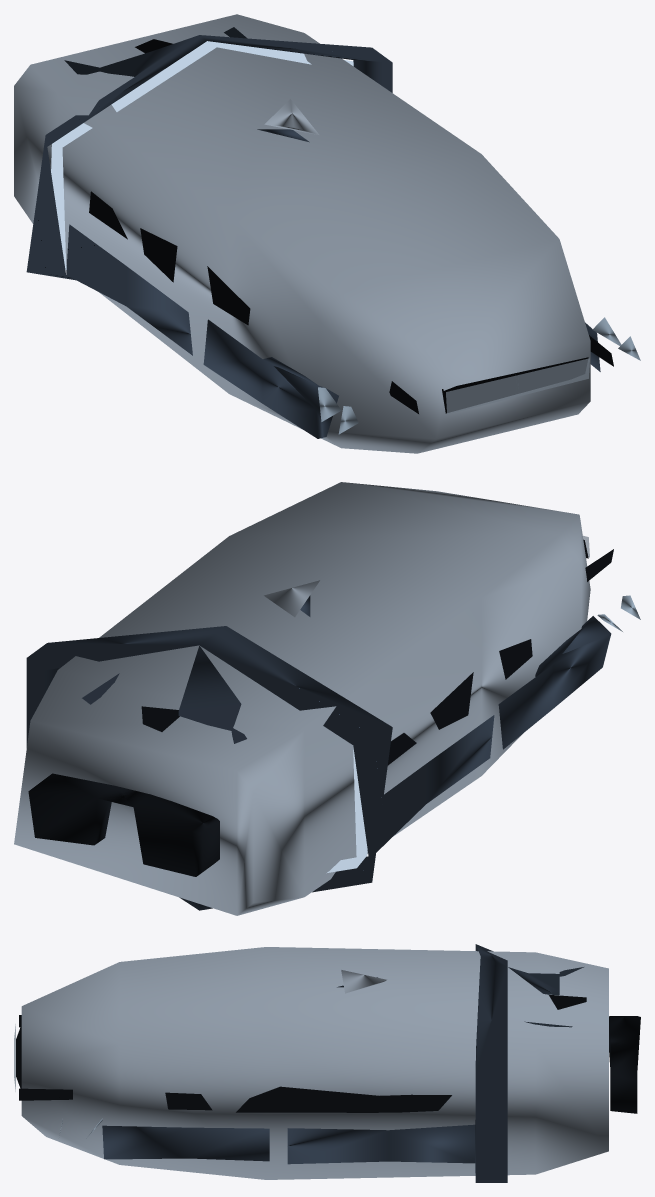
Rendered from paragraf-wykonawcy-hawk-52-lod2.glb.
3 views of the same model, one above another, from view 1: azimuth 30°, elevation 25°; view 2: azimuth 150°, elevation 25°; view 3: azimuth 270°, elevation 25° (orthographic). The views are drawn at different scales.
Bounding box in the file's own units: 11.39 × 8.64 × 23.15.
